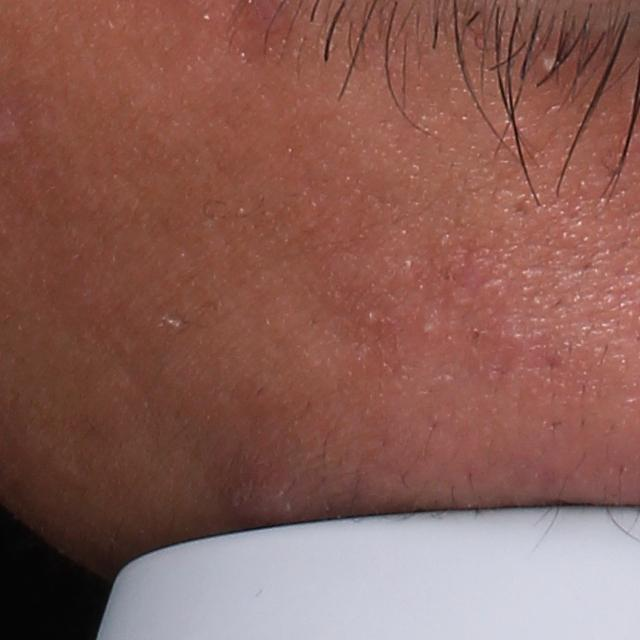comedo: (421, 323, 439, 336)
